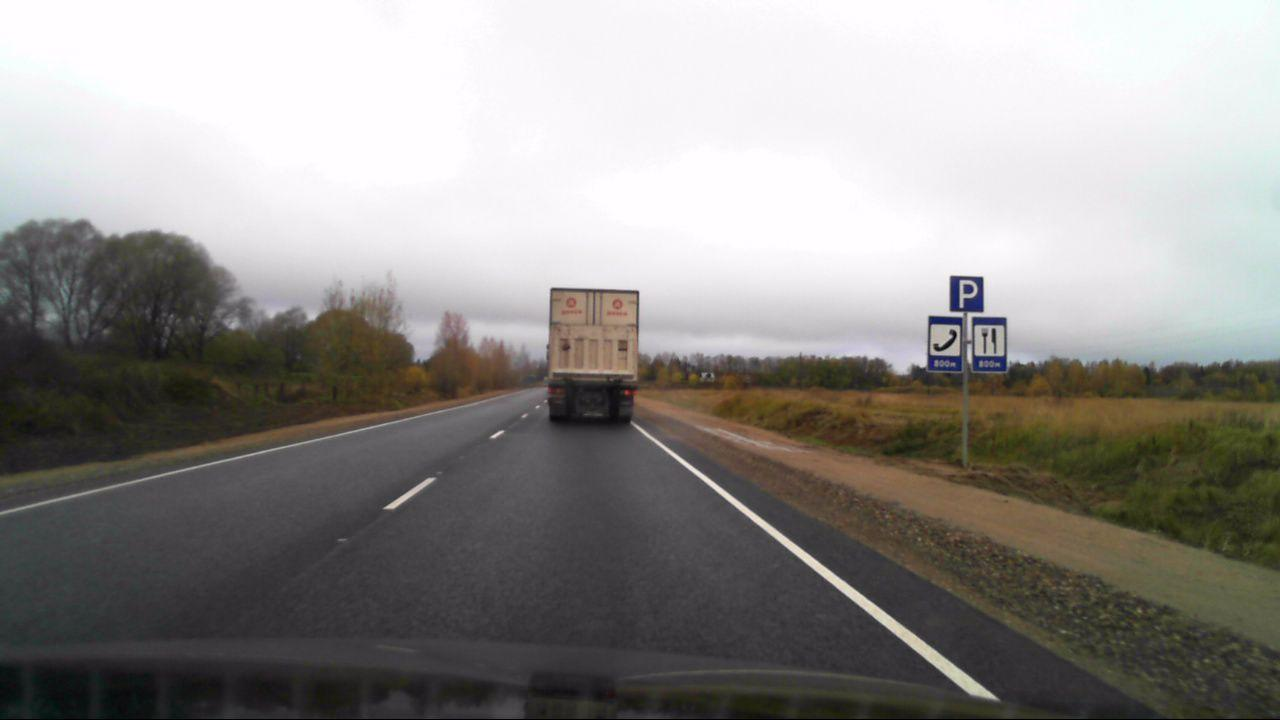6_4: (947, 271, 988, 313)
7_6: (928, 315, 962, 372)
7_7: (969, 318, 1010, 371)
